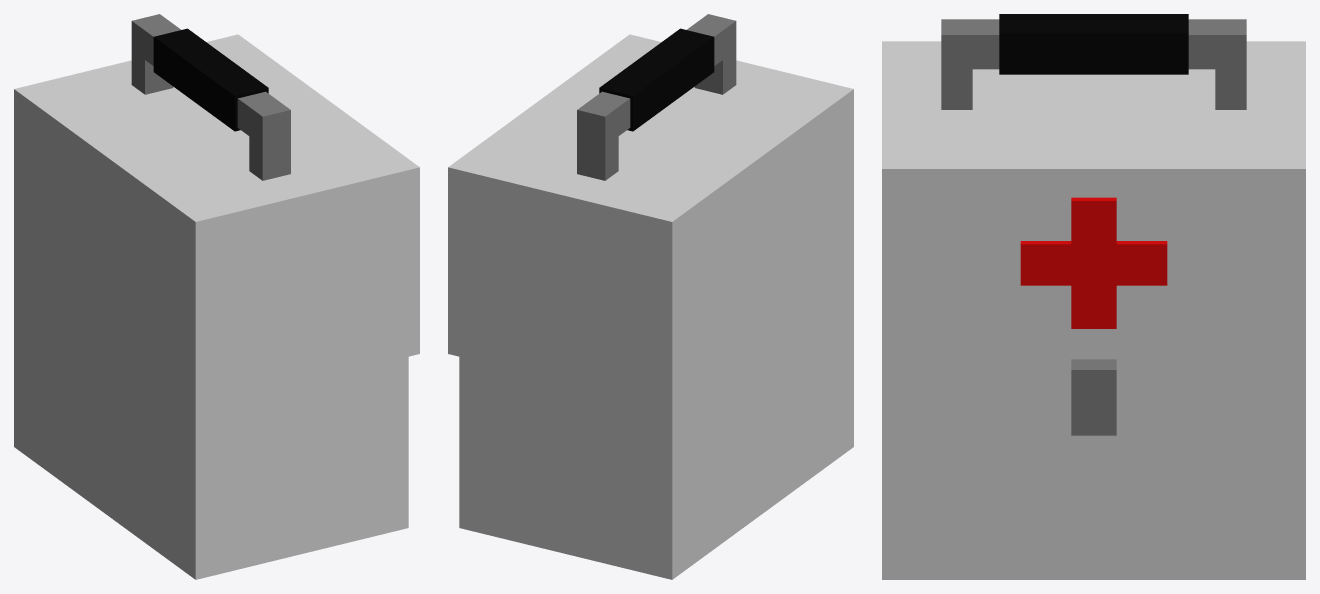
The model's file is medkit.fbx.
3 renders of one model, left to right at view 1: azimuth 30°, elevation 25°; view 2: azimuth 150°, elevation 25°; view 3: azimuth 270°, elevation 25°, orthographic. The views are drawn at different scales.
Parts seen in each view (by area): view 1: pCube5; view 2: pCube5; view 3: pCube5.
Part boxes in pixels (left/top/right/bottom): pCube5: left=14, top=14, right=419, bottom=579; pCube5: left=448, top=14, right=853, bottom=579; pCube5: left=882, top=14, right=1305, bottom=579.
Size of the model in its own units: 71.71 by 120 by 92.92.
